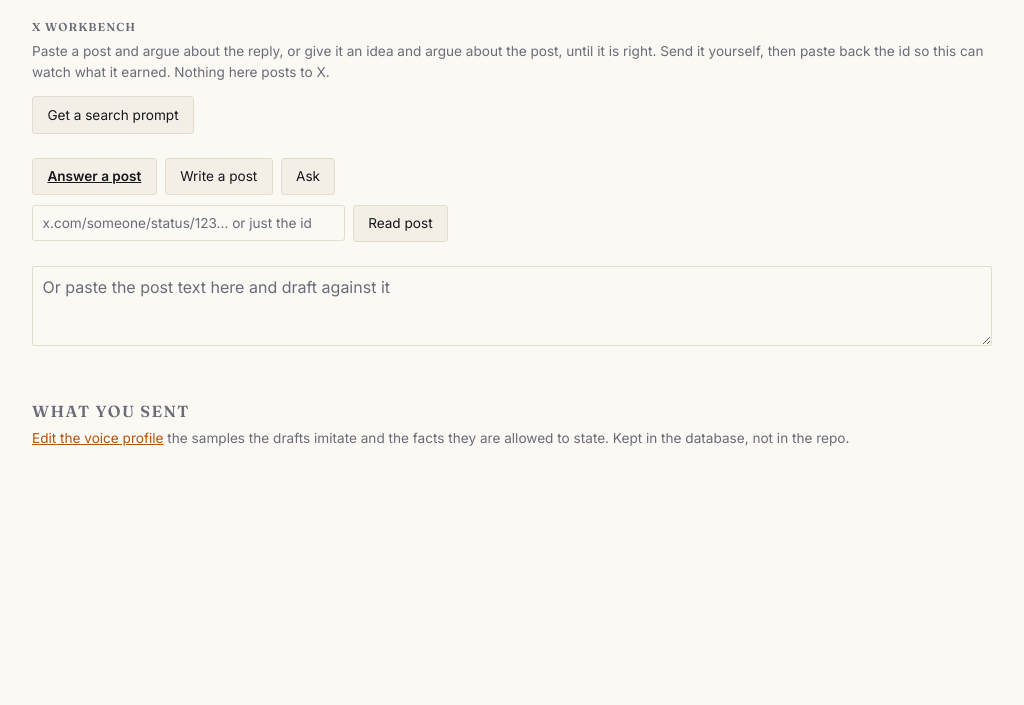
Test: the X workbench › the search loop: suggest, take it, paste ids, work on one
Click the button "Get a search prompt" at (113, 115), box [32,96,194,134]
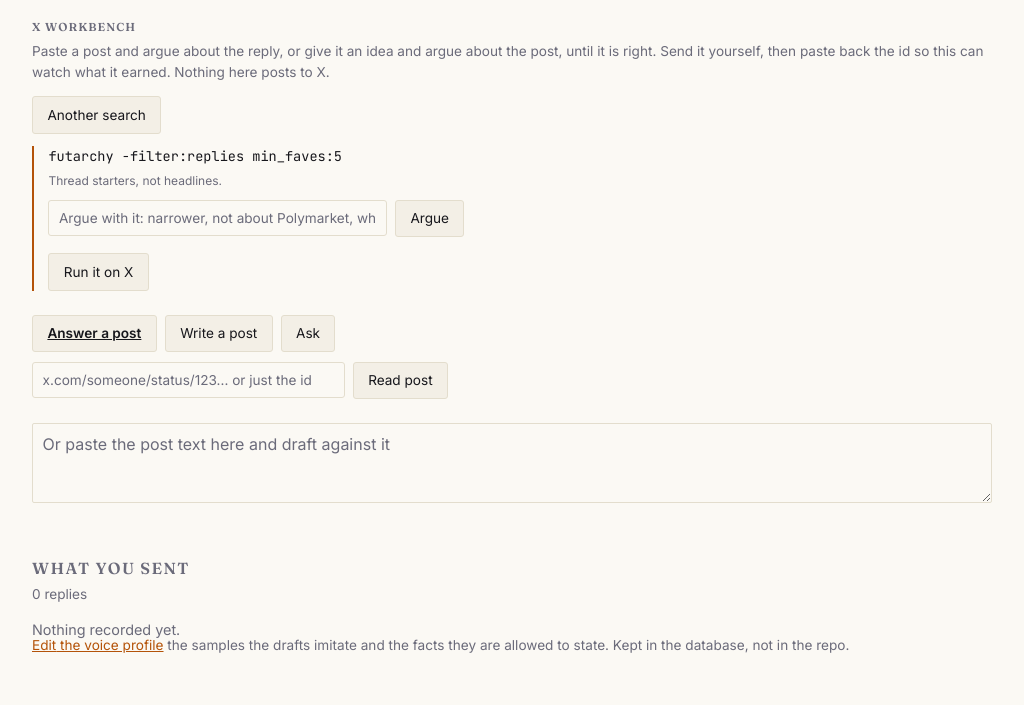
Now the text "futarchy -filter:replies min_faves:5" is shown, box [48,147,342,165]
Click the link "Run it on X" at (99, 272), box [48,253,149,291]
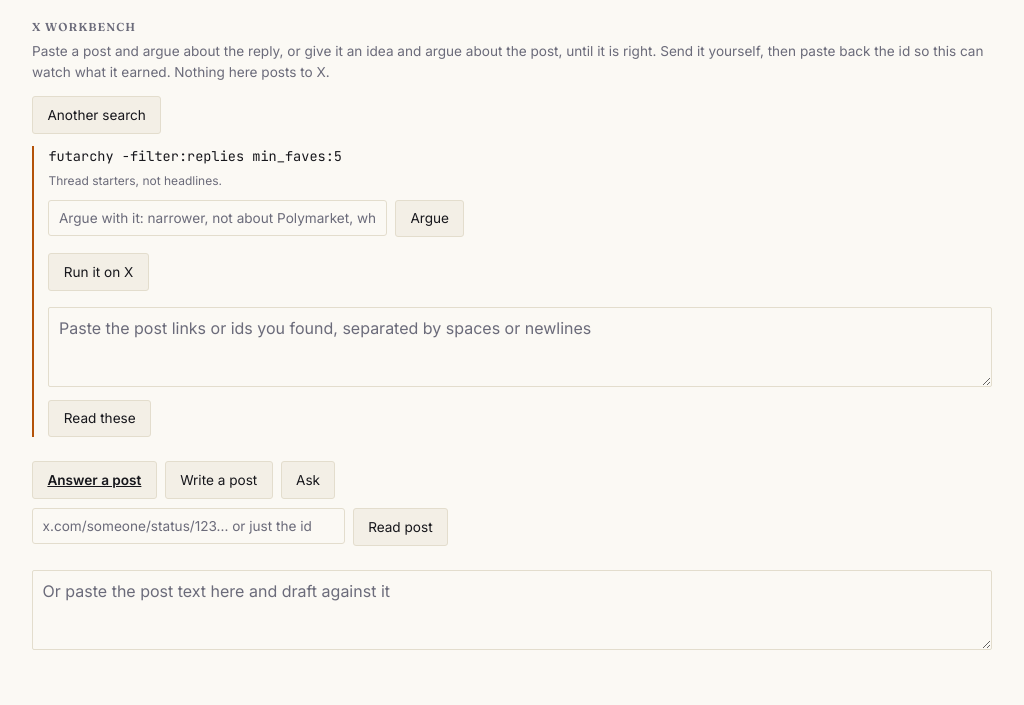
Replace the text in the text box with placeholder "post links or ids you found" with "https://x.com/someone/status/7" at (520, 347), box [48,307,992,387]
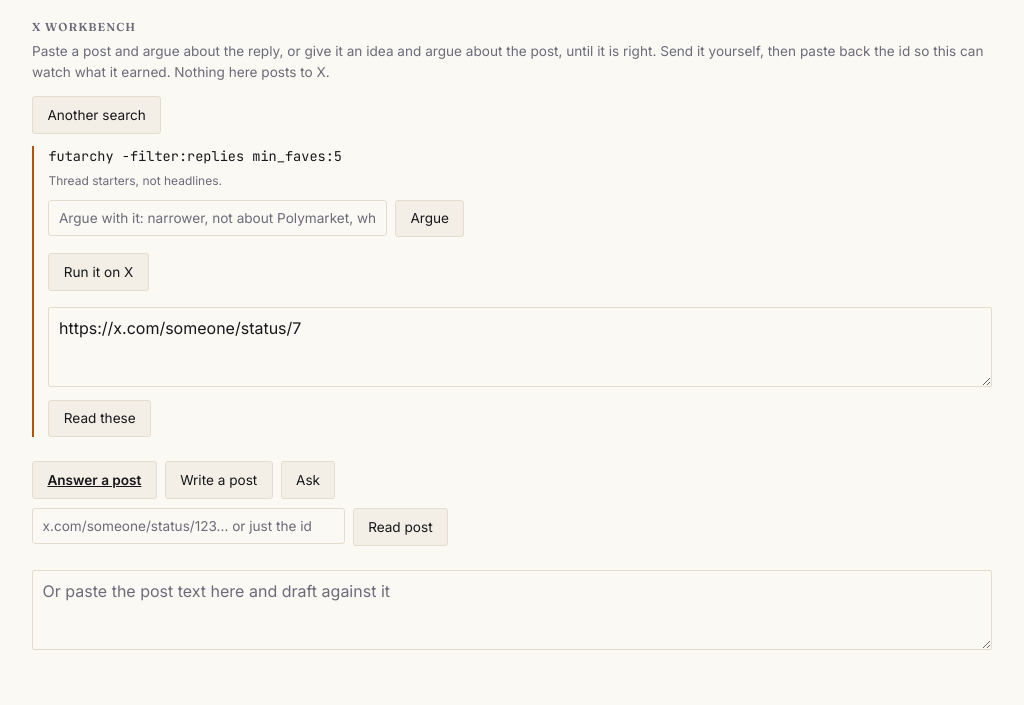
Click the button "Read these" at (100, 419), box [48,400,151,437]
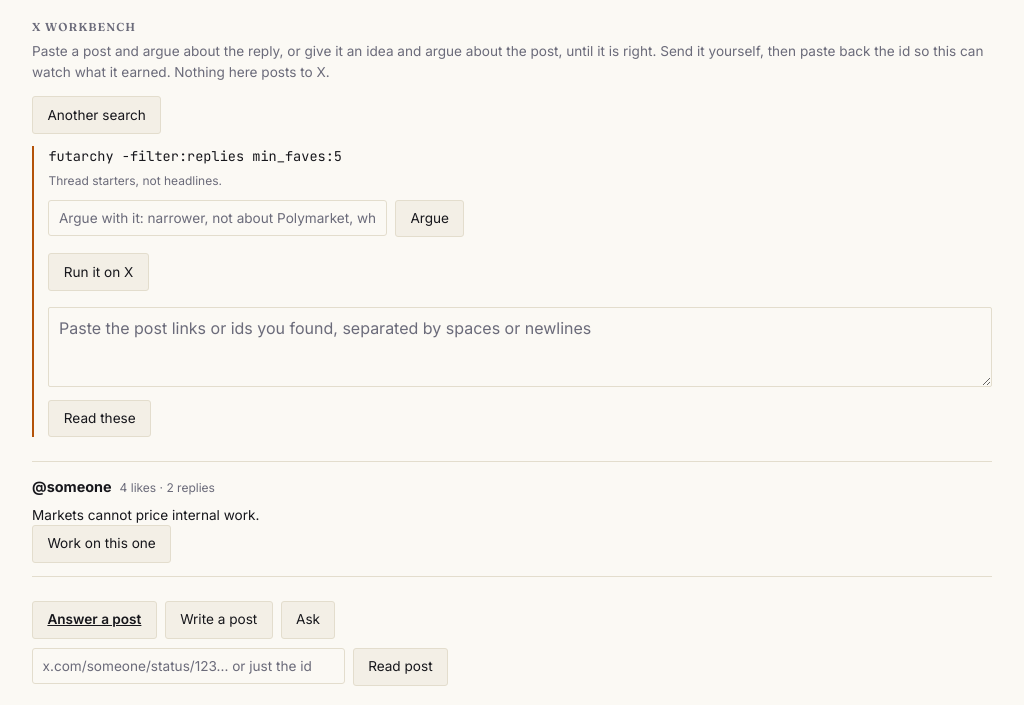
Now the text "Markets cannot price internal work." is shown, box [32,507,260,523]
Click the button "Work on this one" at (102, 544), box [32,525,171,562]
(page scrolled)
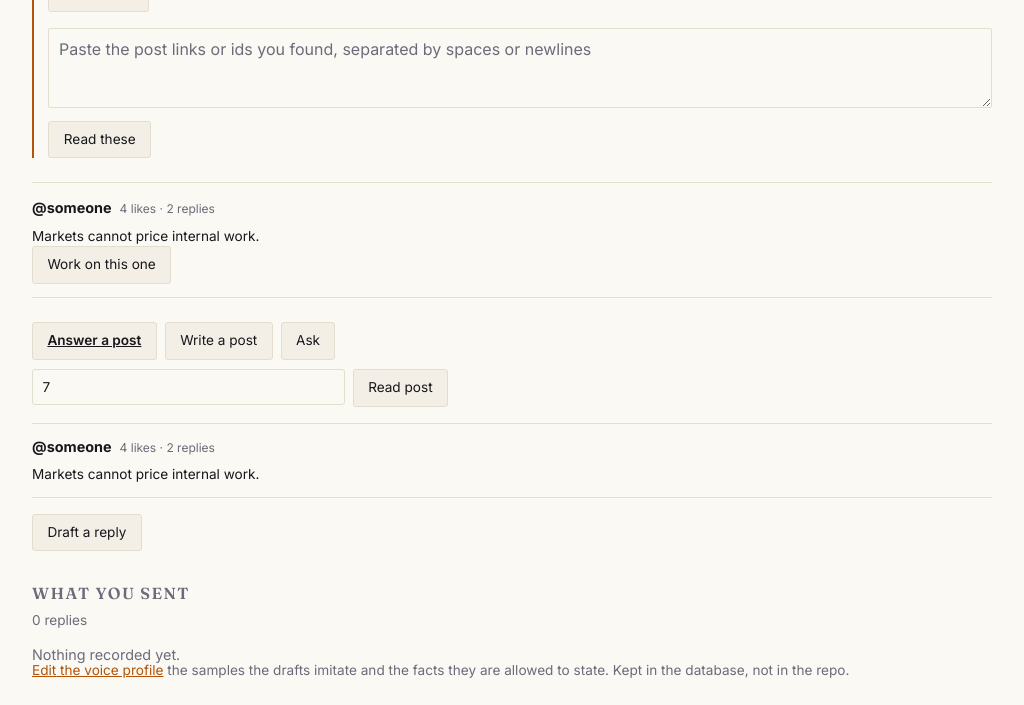
Now the button "Draft a reply" is shown, box [32,514,142,551]
